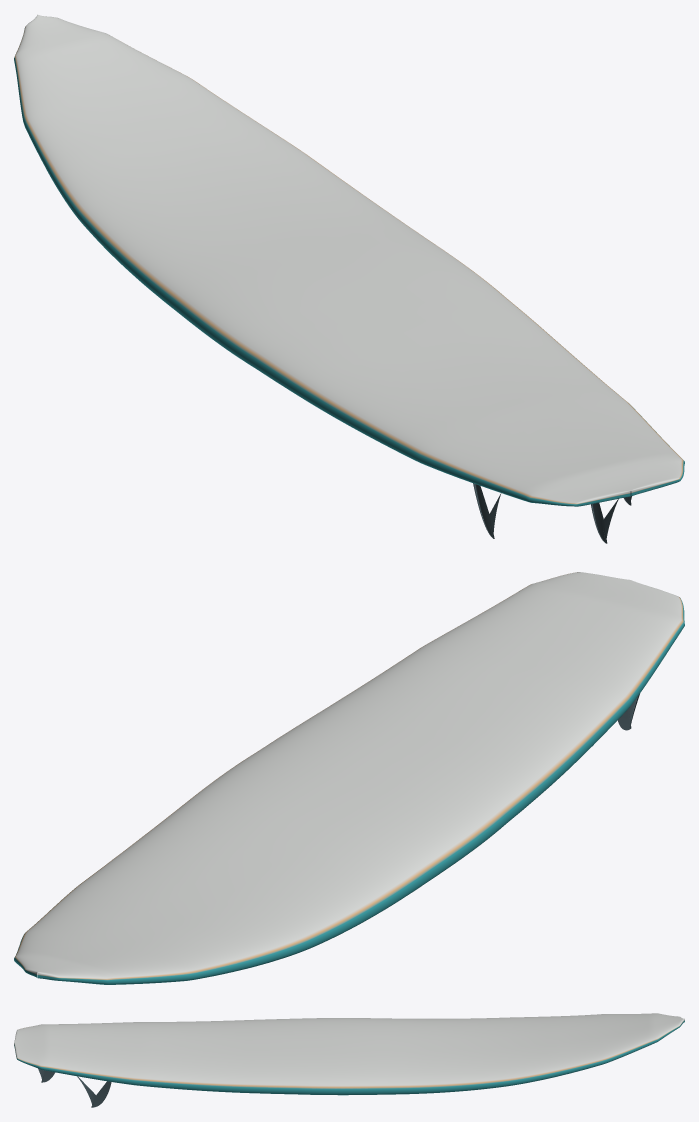
File: surfboard.glb
3 renders of one model, top to bottom at view 1: azimuth 30°, elevation 25°; view 2: azimuth 150°, elevation 25°; view 3: azimuth 270°, elevation 25°, orthographic. The views are drawn at different scales.
Parts seen in each view (by area): view 1: Body; view 2: Body; view 3: Body, FinRight.
Part boxes in pixels (x1,y1,x2,y2): Body: (14, 14, 684, 506); Body: (14, 572, 684, 984); Body: (14, 1013, 684, 1095); FinRight: (77, 1076, 111, 1107).
Size of the model in its own units: 0.5464 by 0.2507 by 2.18.
